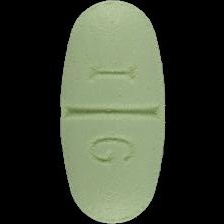50436-6306: (0, 0, 224, 224)
